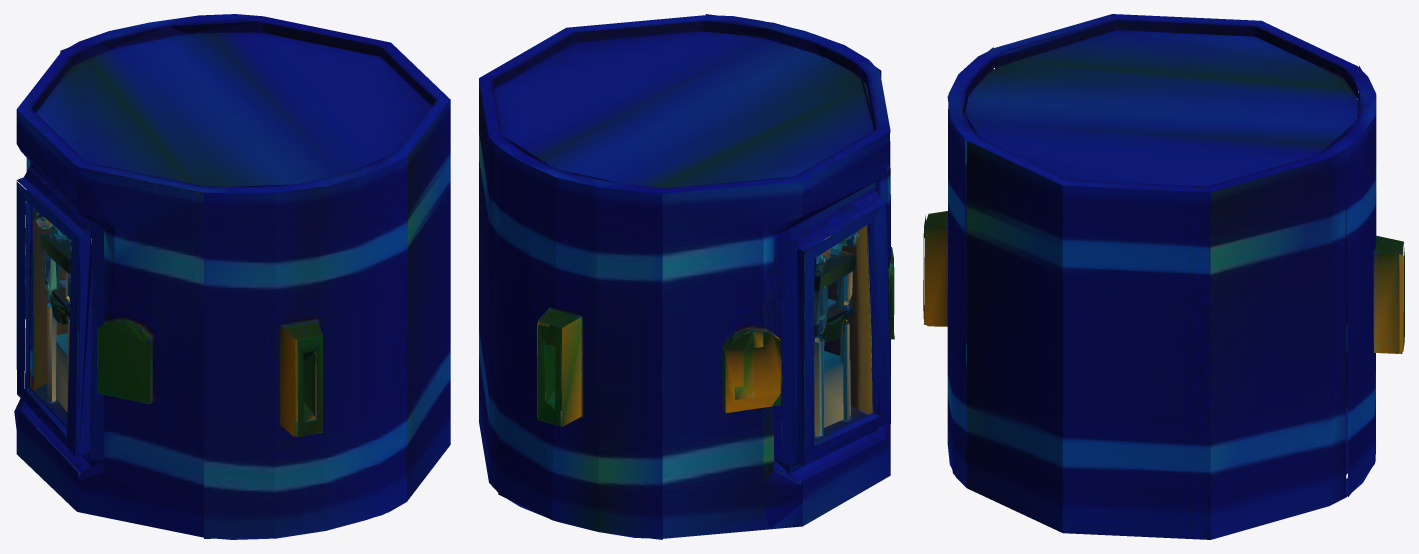
Rendered from cylinder-drum.glb.
3 views of the same model, side by side, from view 1: azimuth 30°, elevation 25°; view 2: azimuth 150°, elevation 25°; view 3: azimuth 270°, elevation 25° (orthographic).
Parts seen in each view (by area): view 1: tripo_node_125e1ebd-06b5-45bc-bedb-06c393bd71dc; view 2: tripo_node_125e1ebd-06b5-45bc-bedb-06c393bd71dc; view 3: tripo_node_125e1ebd-06b5-45bc-bedb-06c393bd71dc.
Part boxes in pixels (x1=…): tripo_node_125e1ebd-06b5-45bc-bedb-06c393bd71dc: x1=14, y1=14, x2=450, y2=539; tripo_node_125e1ebd-06b5-45bc-bedb-06c393bd71dc: x1=479, y1=14, x2=894, y2=539; tripo_node_125e1ebd-06b5-45bc-bedb-06c393bd71dc: x1=923, y1=14, x2=1404, y2=539.
Bounding box in the file's own units: 0.8776 × 0.7988 × 0.9985.
1 material, 1 textured.
